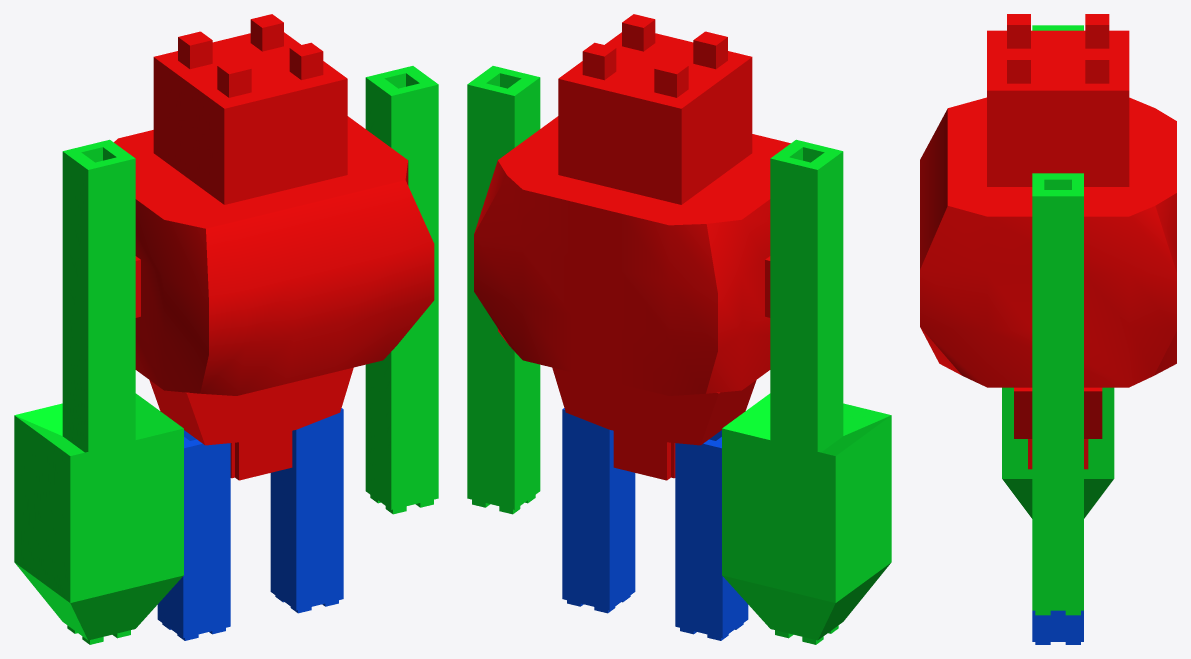
The model's file is unit_golem.fbx.
3 views of the same model, side by side, from view 1: azimuth 30°, elevation 25°; view 2: azimuth 150°, elevation 25°; view 3: azimuth 270°, elevation 25° (orthographic).
Visible parts, largest first — view 1: Box001, Box006, Box008, Object002, Object001; view 2: Box001, Box006, Box008, Object002, Object001; view 3: Box001, Box008, Box006, Object002.
Boxes of the visible parts, x1,y1,x2,y2 form: Box001: (114,14,434,480); Box006: (14,139,183,644); Box008: (365,66,438,514); Object002: (270,408,343,613); Object001: (157,430,230,640); Box001: (474,14,790,480); Box006: (722,139,891,644); Box008: (467,66,540,514); Object002: (562,408,635,613); Object001: (675,430,748,640); Box001: (920,14,1176,469); Box008: (1032,173,1083,615); Box006: (1002,25,1114,518); Object002: (1032,610,1083,644).
Size of the model in its own units: 60.06 by 34.81 by 85.25.
